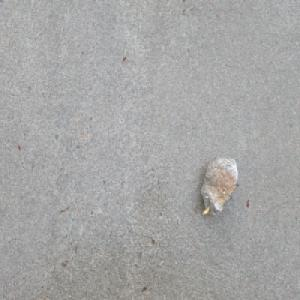Rock: (200, 155, 238, 219)
